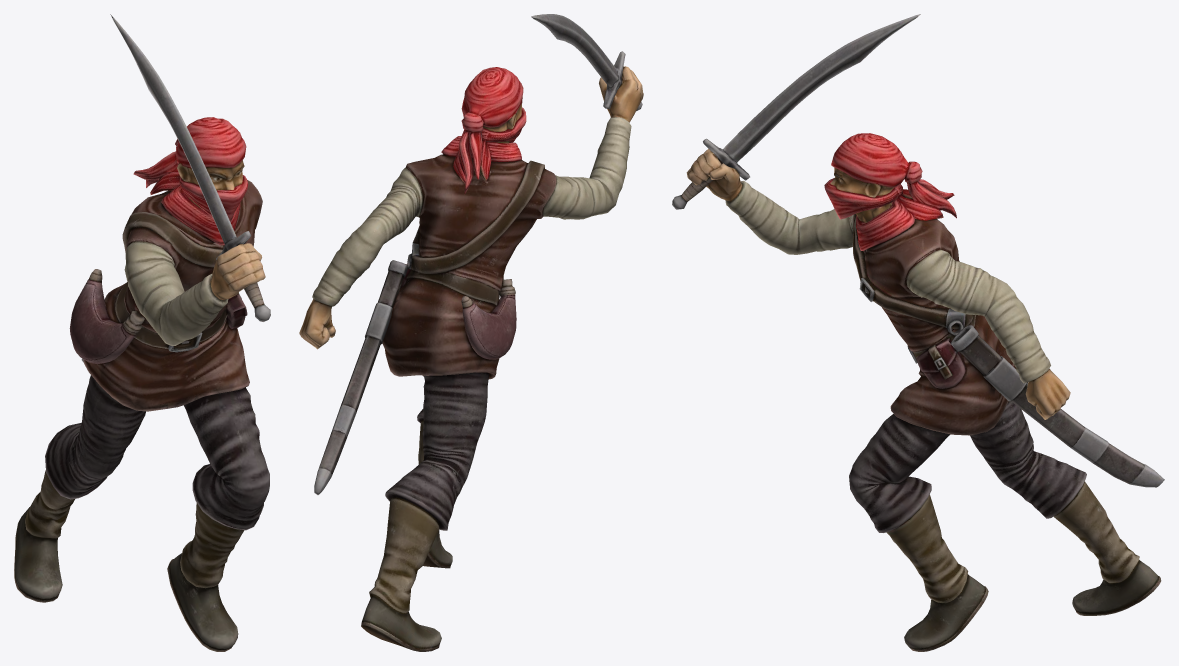
Rendered from MZ4250 - Bandit Male 01.glb.
3 renders of one model, left to right at view 1: azimuth 30°, elevation 25°; view 2: azimuth 150°, elevation 25°; view 3: azimuth 270°, elevation 25°, orthographic. The views are drawn at different scales.
Visible parts, largest first — view 1: BanditMale01; view 2: BanditMale01; view 3: BanditMale01.
Boxes of the visible parts, <box> form: BanditMale01: <box>14,14,270,651</box>; BanditMale01: <box>299,14,643,651</box>; BanditMale01: <box>672,14,1164,651</box>.
Size of the model in its own units: 0.4241 by 1.24 by 0.9457.
Materials: 1 (1 with a texture image).
